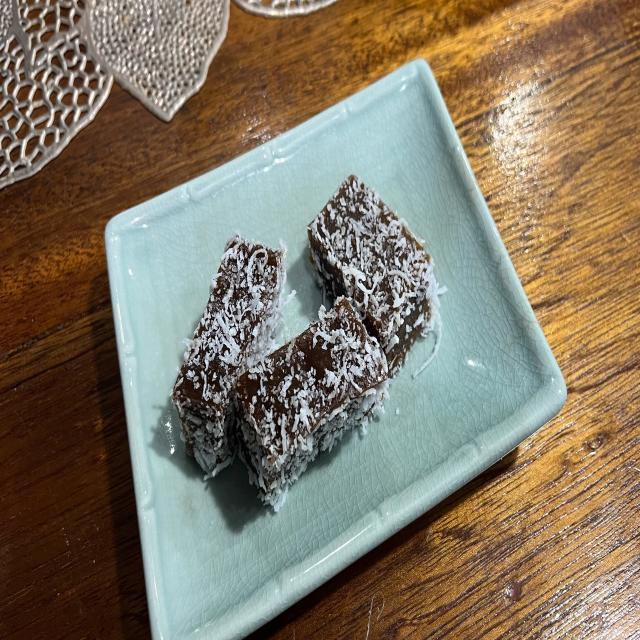kaswi: (234, 298, 389, 511), (171, 231, 286, 478), (308, 176, 440, 378)
